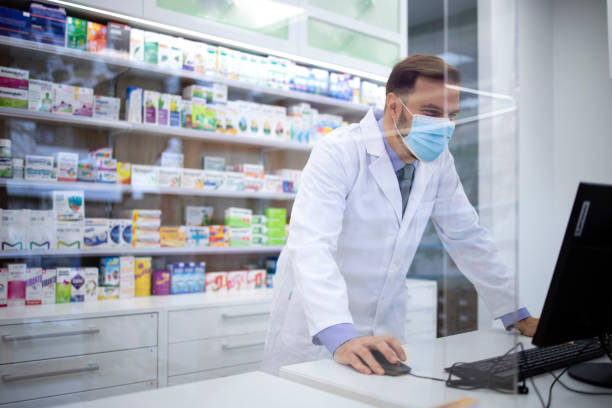with mask: (385, 61, 463, 165)
